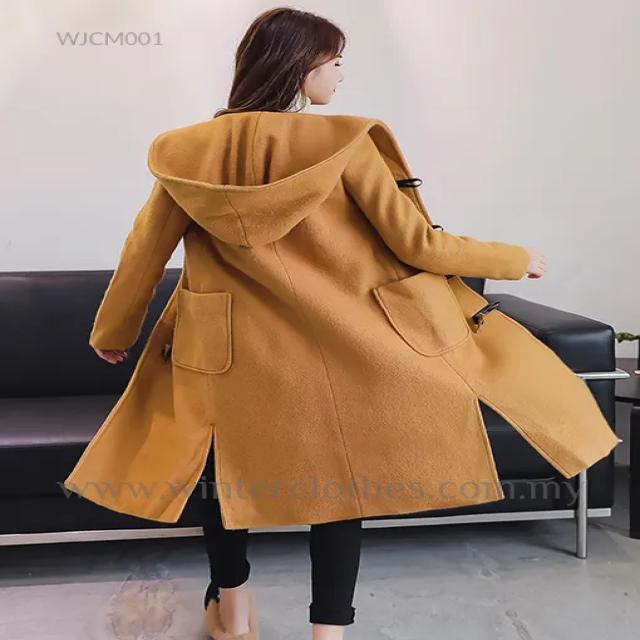coat: (62, 109, 622, 531)
trousers: (199, 425, 366, 627)
